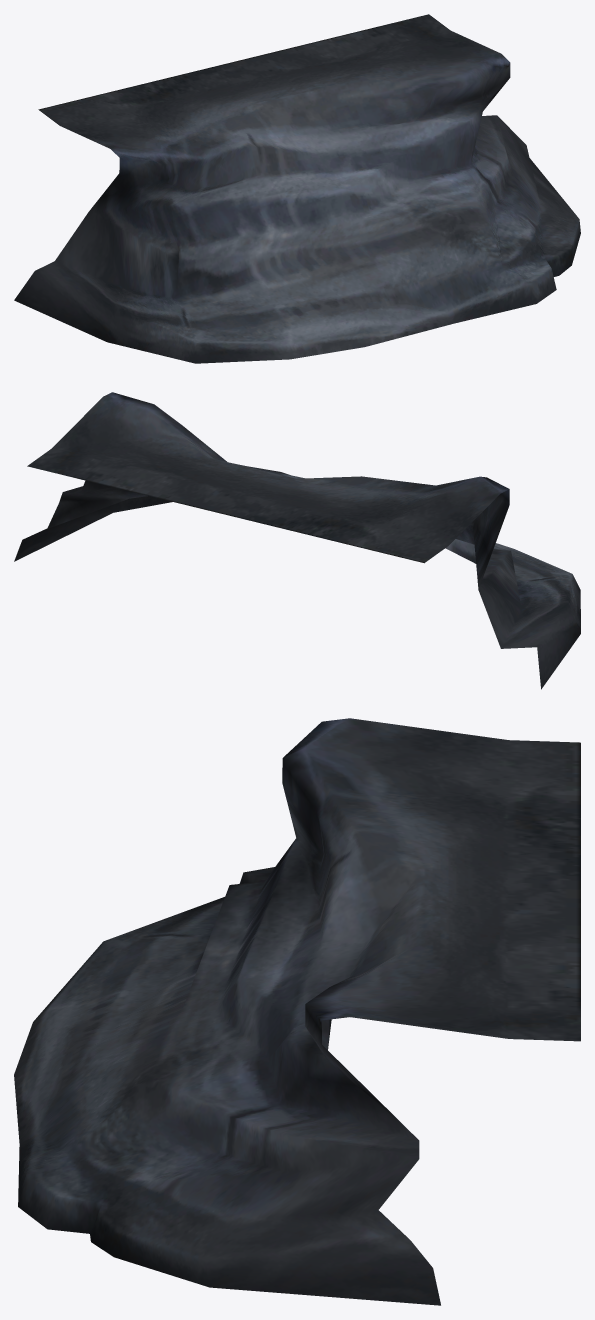
Rendered from mine_quarter_stair_01.fbx.
The picture shows the model from 3 angles, top to bottom: view 1: azimuth 30°, elevation 25°; view 2: azimuth 150°, elevation 25°; view 3: azimuth 270°, elevation 25°; orthographic projection. The views are drawn at different scales.
Visible parts, largest first — view 1: mine_tileset/mine_stair01_shadow; view 2: mine_tileset/mine_stair01_shadow; view 3: mine_tileset/mine_stair01_shadow.
Boxes of the visible parts, left/top/right/bottom form: mine_tileset/mine_stair01_shadow: left=14, top=14, right=580, bottom=363; mine_tileset/mine_stair01_shadow: left=14, top=392, right=580, bottom=689; mine_tileset/mine_stair01_shadow: left=14, top=718, right=580, bottom=1305.
Size of the model in its own units: 5.3 by 1.52 by 3.21.
